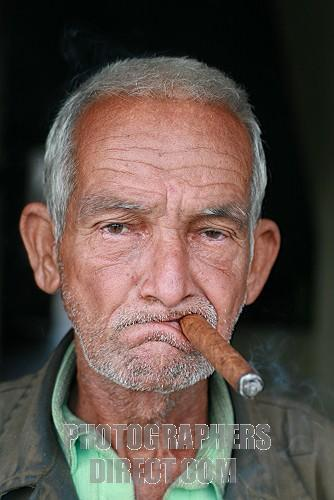cigarette: (176, 303, 268, 400)
